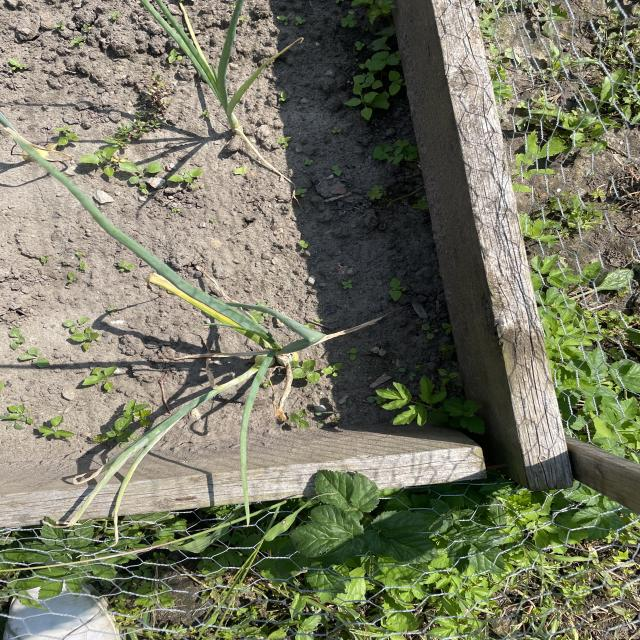Onion: (136, 257, 340, 468), (157, 5, 266, 149)
weed: (377, 374, 493, 437), (347, 0, 397, 125), (5, 401, 73, 452), (0, 326, 58, 376), (102, 394, 148, 452), (72, 363, 125, 403), (77, 140, 127, 177), (120, 155, 167, 192), (369, 135, 420, 168), (288, 357, 341, 388), (379, 273, 416, 314), (64, 313, 102, 352), (171, 167, 214, 197)
